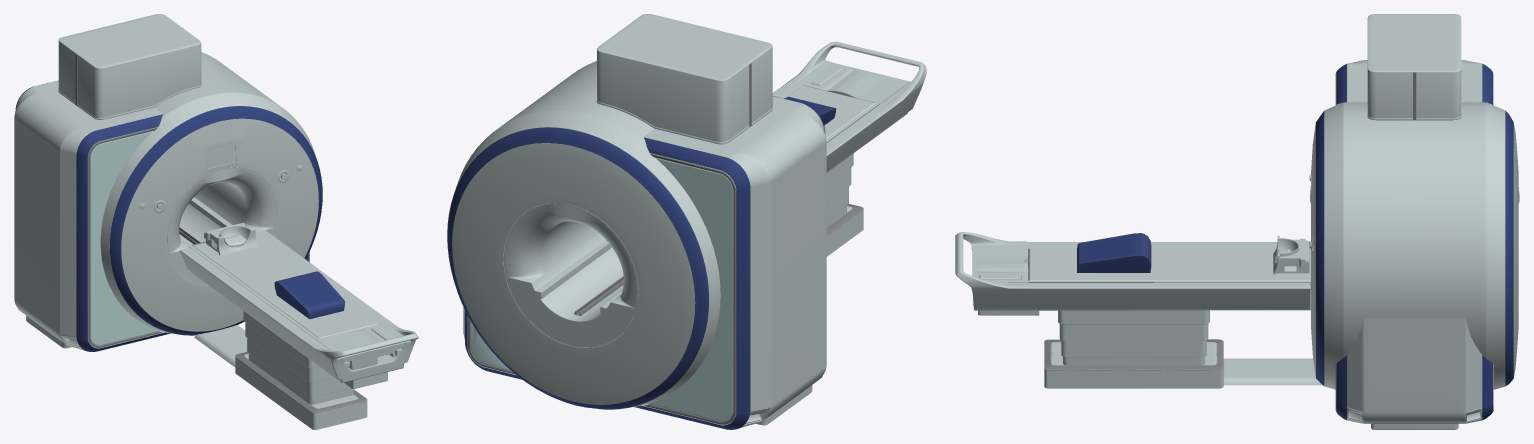
Rendered from MRI CTScanMachine.fbx.
The picture shows the model from 3 angles, left to right: view 1: azimuth 30°, elevation 25°; view 2: azimuth 150°, elevation 25°; view 3: azimuth 270°, elevation 25°; orthographic projection. The views are drawn at different scales.
Parts seen in each view (by area): view 1: MRI_CTScan_Machine; view 2: MRI_CTScan_Machine; view 3: MRI_CTScan_Machine.
Part boxes in pixels (box(x1,y1,x2,y2)): MRI_CTScan_Machine: box(14, 14, 418, 429); MRI_CTScan_Machine: box(447, 14, 926, 429); MRI_CTScan_Machine: box(955, 14, 1519, 429).
Bounding box in the file's own units: 200 × 208 × 349.
